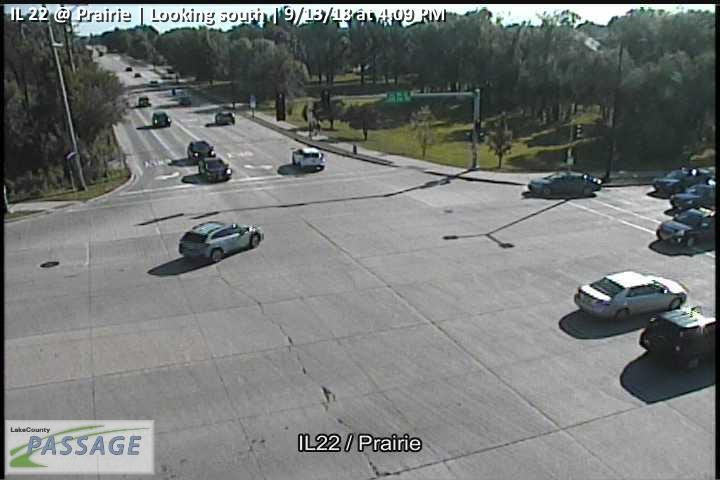SUV: (638, 302, 717, 369), (178, 219, 265, 263), (291, 147, 326, 171), (187, 140, 216, 165), (152, 111, 172, 128), (214, 111, 236, 125)
Sedan: (574, 270, 687, 322), (656, 207, 717, 247), (528, 170, 602, 196), (651, 166, 712, 193), (670, 183, 716, 209), (198, 156, 233, 183)
